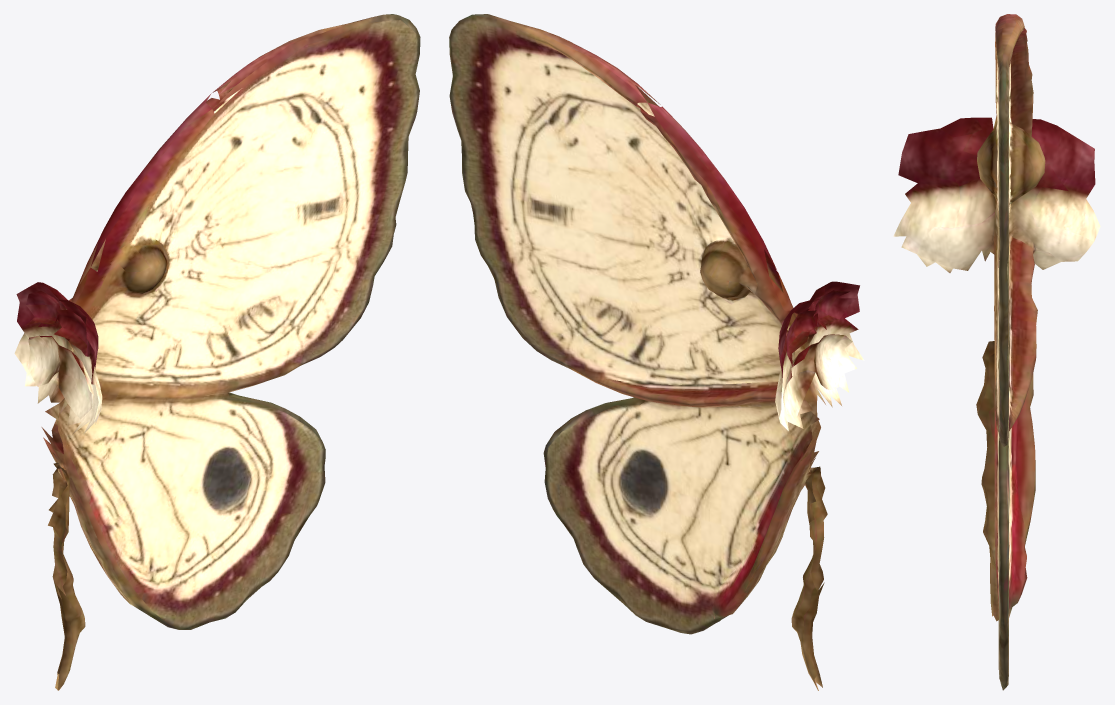
File: stillwing-right.glb
3 views of the same model, side by side, from view 1: azimuth 30°, elevation 25°; view 2: azimuth 150°, elevation 25°; view 3: azimuth 270°, elevation 25° (orthographic). The views are drawn at different scales.
Visible parts, largest first — view 1: Mesh_0.001; view 2: Mesh_0.001; view 3: Mesh_0.001.
Boxes of the visible parts, left/top/right/bottom form: Mesh_0.001: left=14, top=14, right=420, bottom=690; Mesh_0.001: left=449, top=14, right=864, bottom=690; Mesh_0.001: left=893, top=14, right=1100, bottom=690.
Bounding box in the file's own units: 0.6514 × 0.9953 × 0.2469.
Materials: 1 (1 with a texture image).
